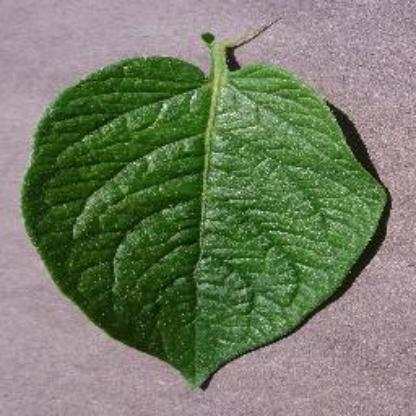Healthy-plant: (22, 32, 386, 386)
